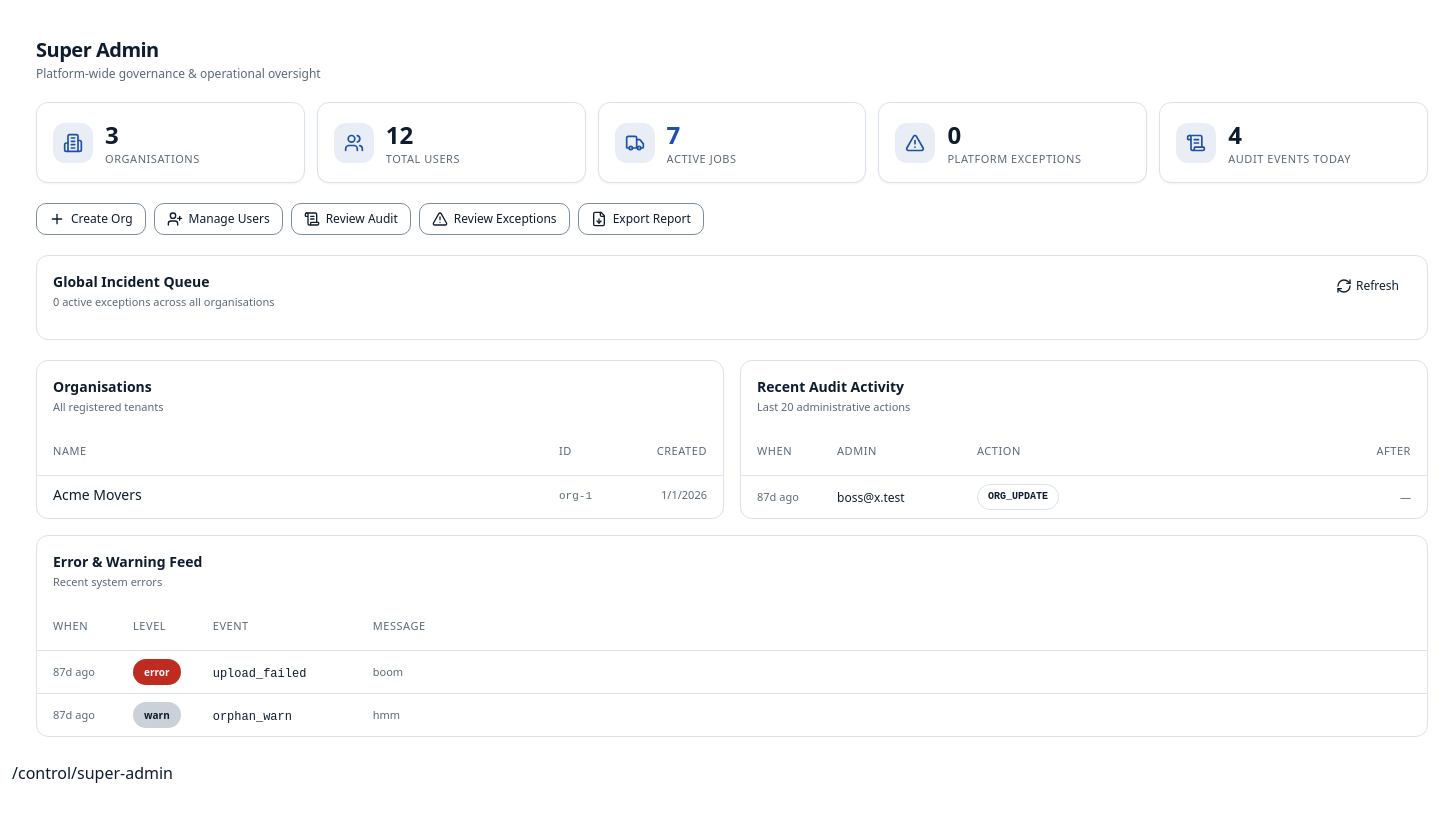
it: ControlSuperAdmin linking › audit rows open the targeted organisation
Step 1. Click the text "boss@x.test" → {"x": 871, "y": 497}, box [837,489,905,506]
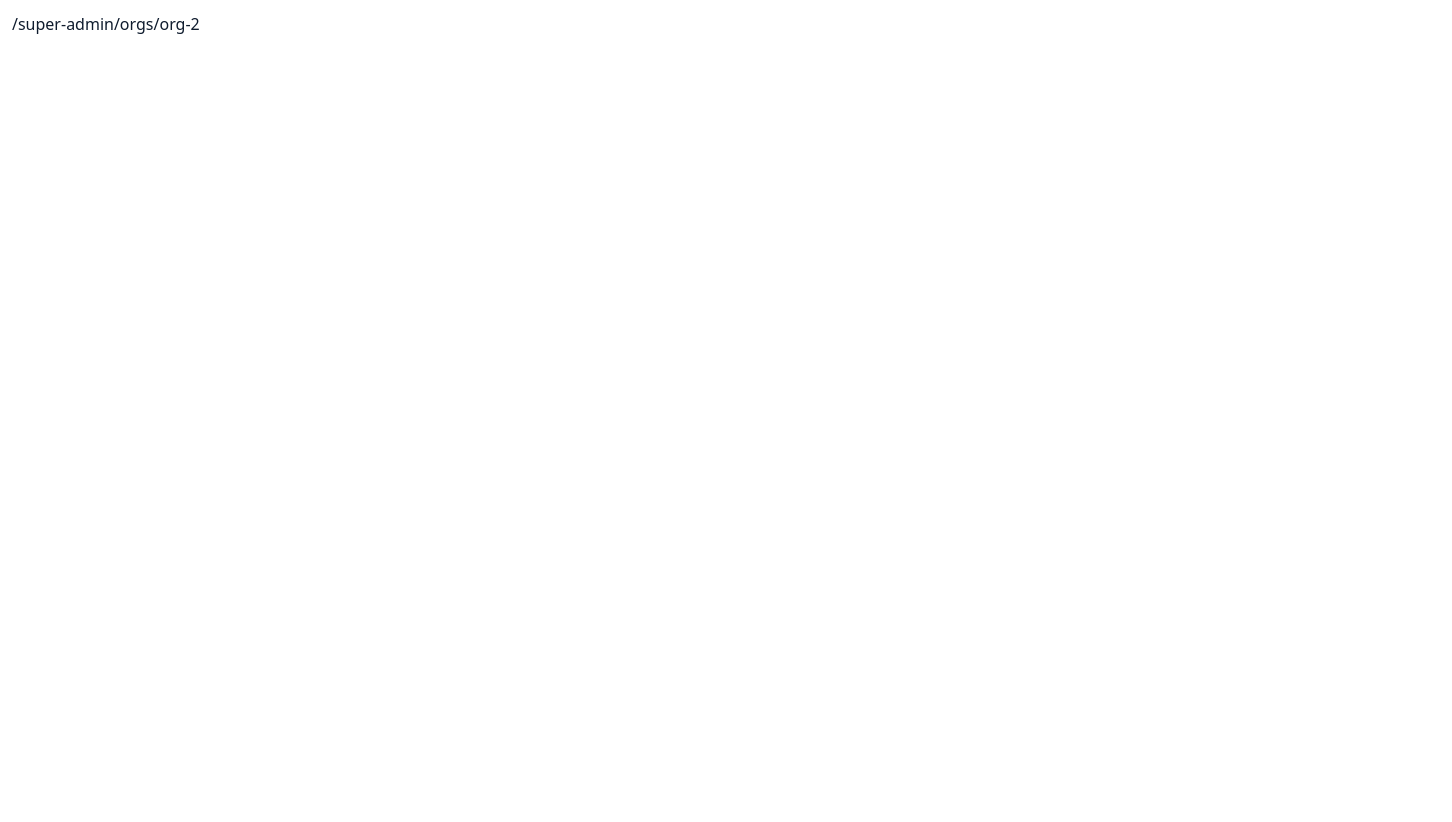
Now the text with test id "location" reads "/super-admin/orgs/org-2", box [12,13,200,35]
